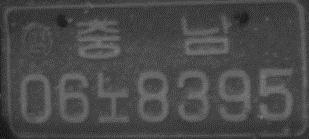0: (20, 72, 52, 124)
3: (176, 70, 211, 123)
5: (257, 67, 294, 122)
6: (56, 71, 90, 123)
8: (137, 70, 169, 124)
9: (216, 68, 251, 122)
노: (95, 72, 131, 123)
영: (19, 22, 55, 60)
충남_D: (76, 14, 231, 62)
